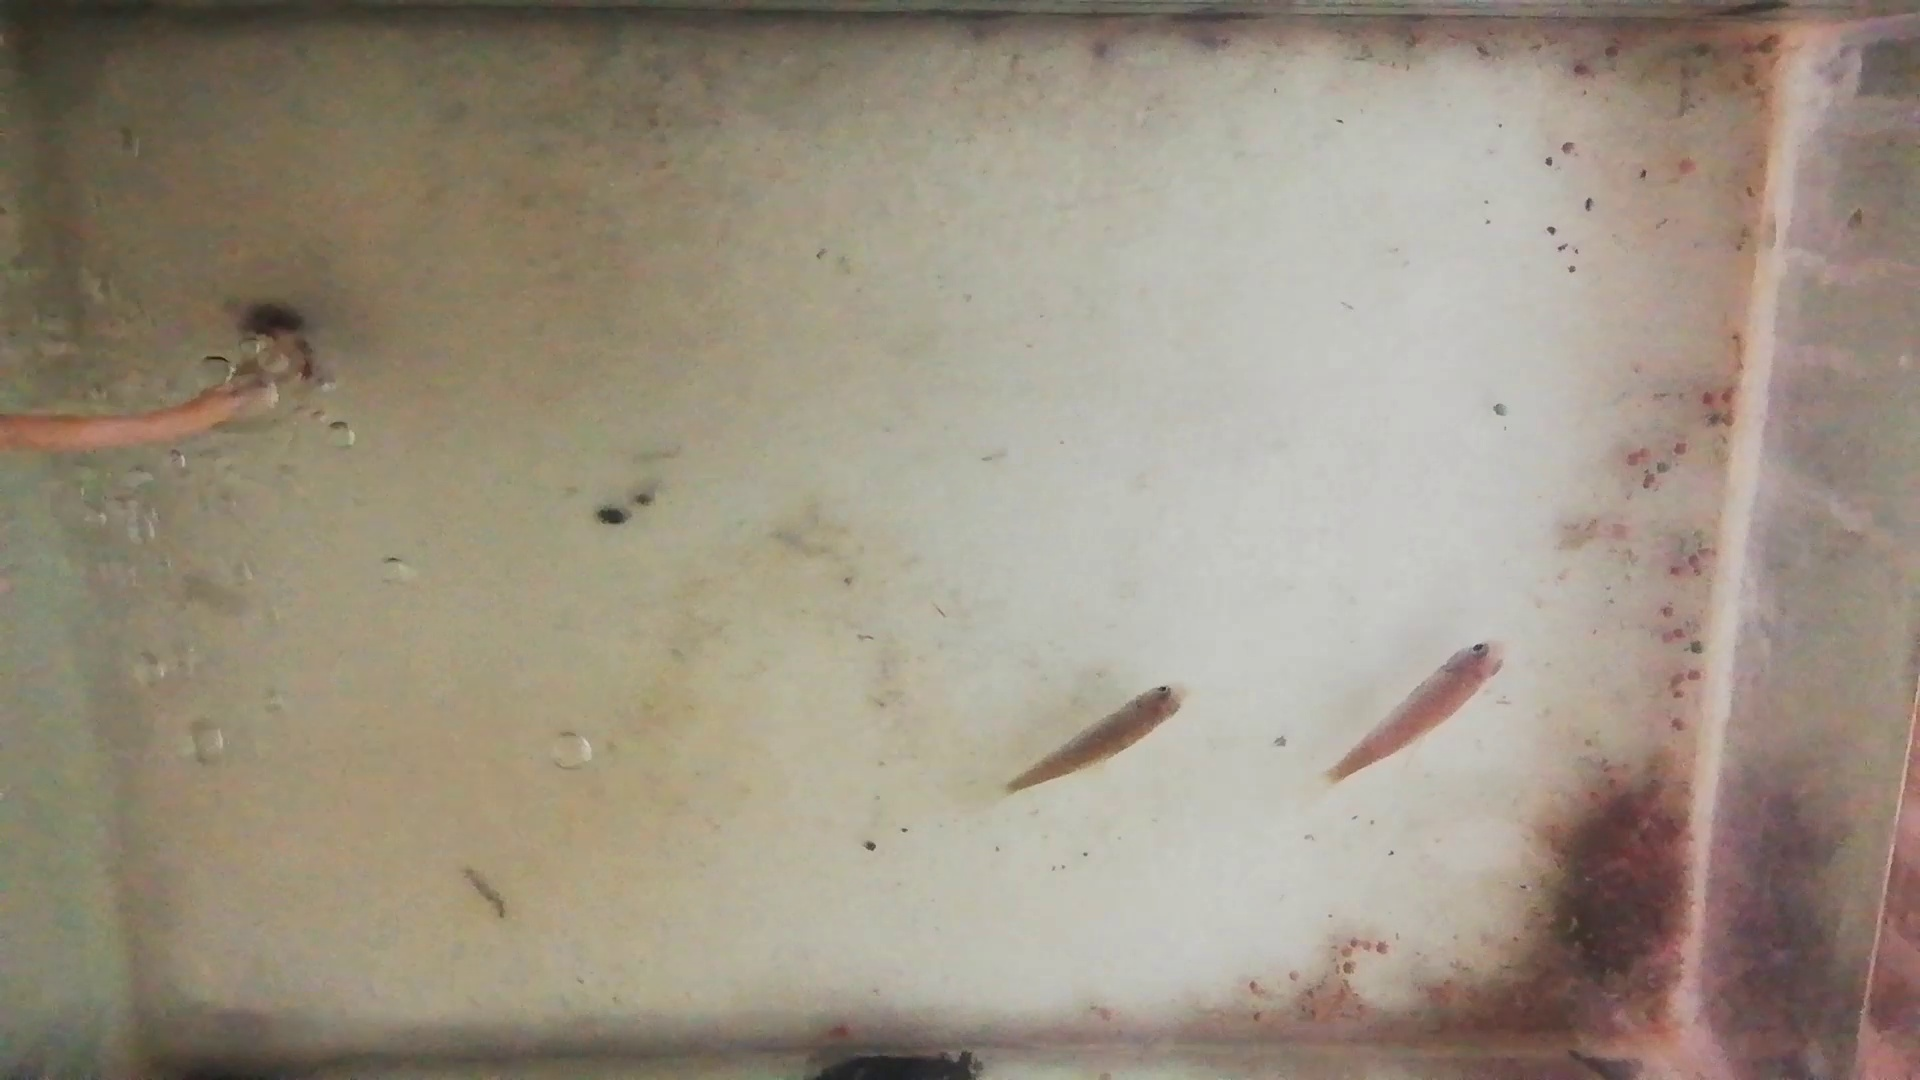fish: (1327, 640, 1514, 781), (1004, 682, 1191, 794)
